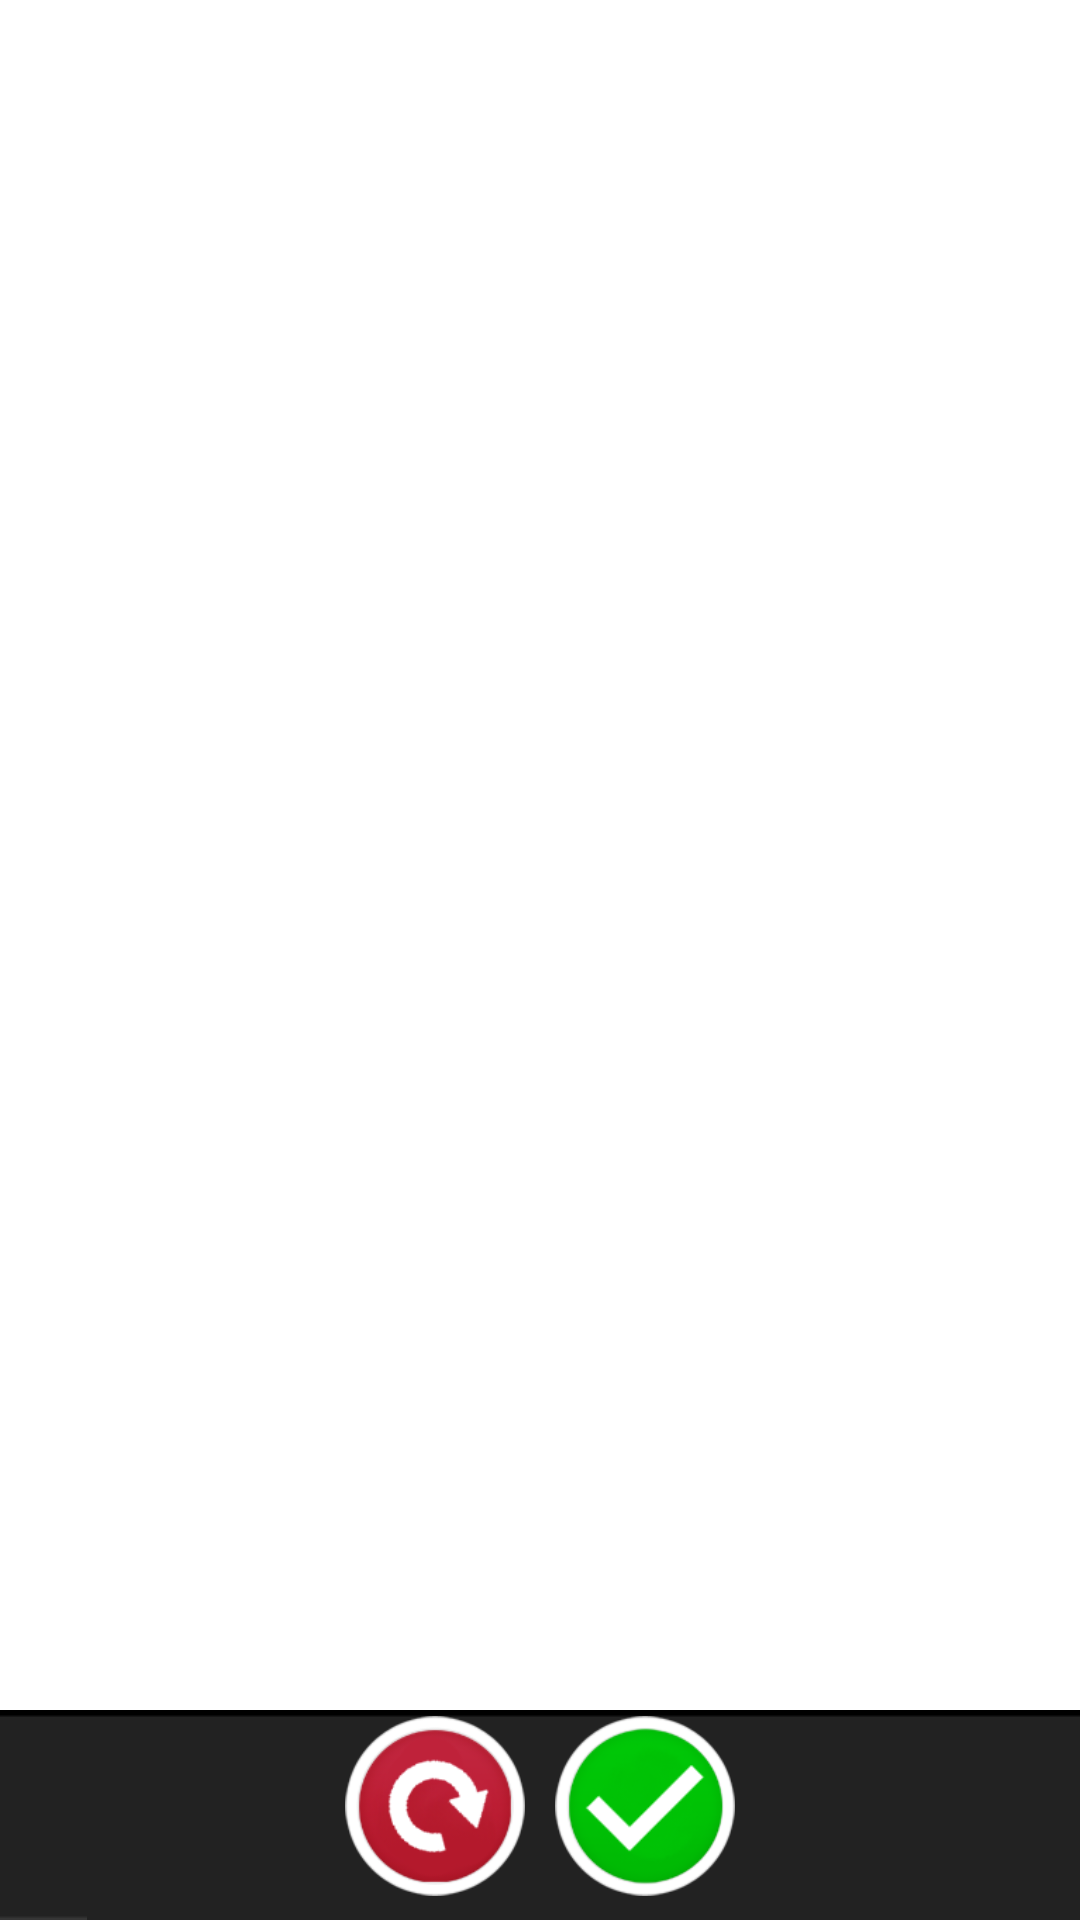

Screen size 1080x1920. Icon name, then its box in pixels as (x1, y1, x2, y2):
retake pic: (345, 1716, 525, 1896)
save pic: (555, 1716, 735, 1896)
